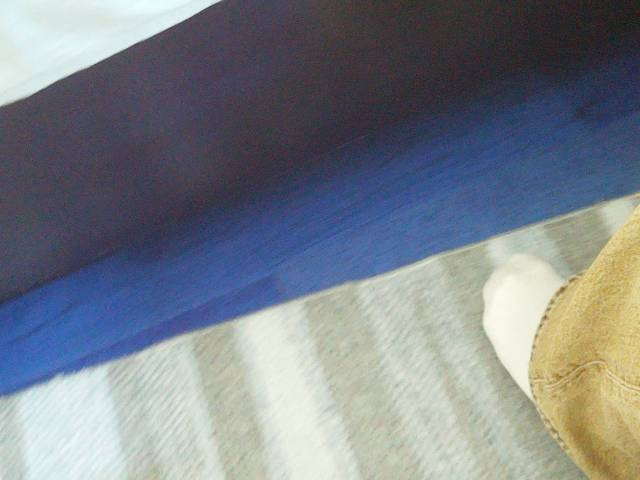boulder: (0, 0, 221, 106)
